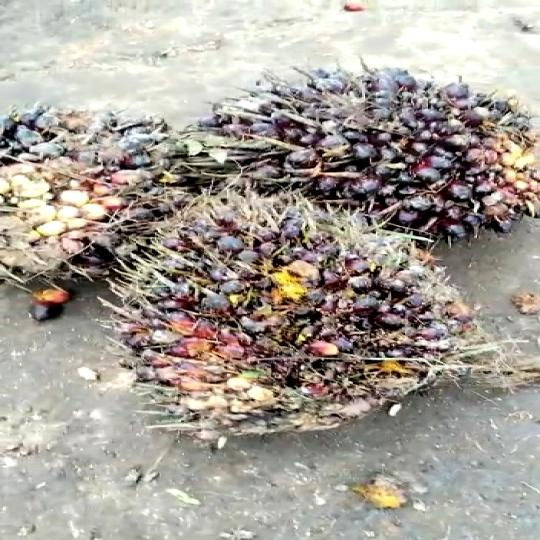kurang masak: (123, 180, 489, 448), (179, 53, 540, 243), (0, 107, 205, 277)
